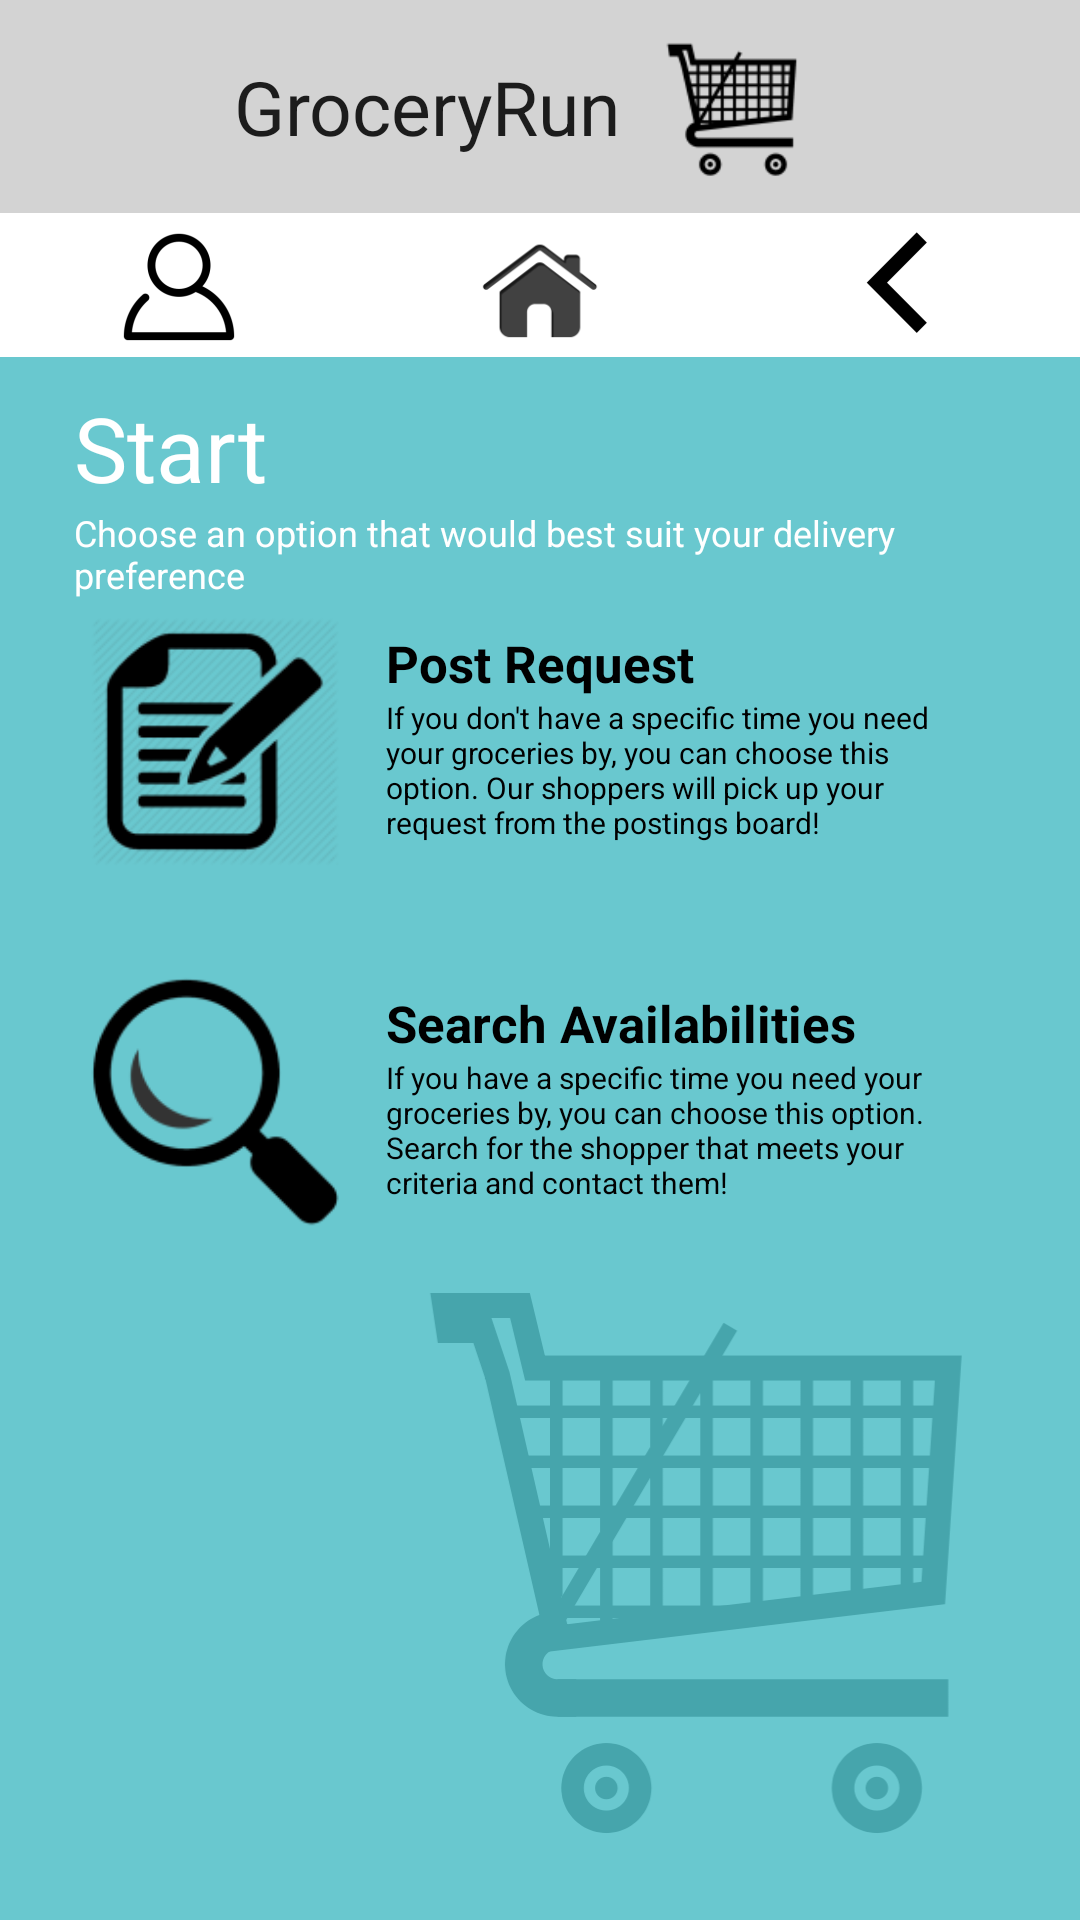

Locate icon controls on the screen. Image size 1080px x 1920px, boxes as (x1, y1, x2, y2).
home: (483, 244, 597, 338)
